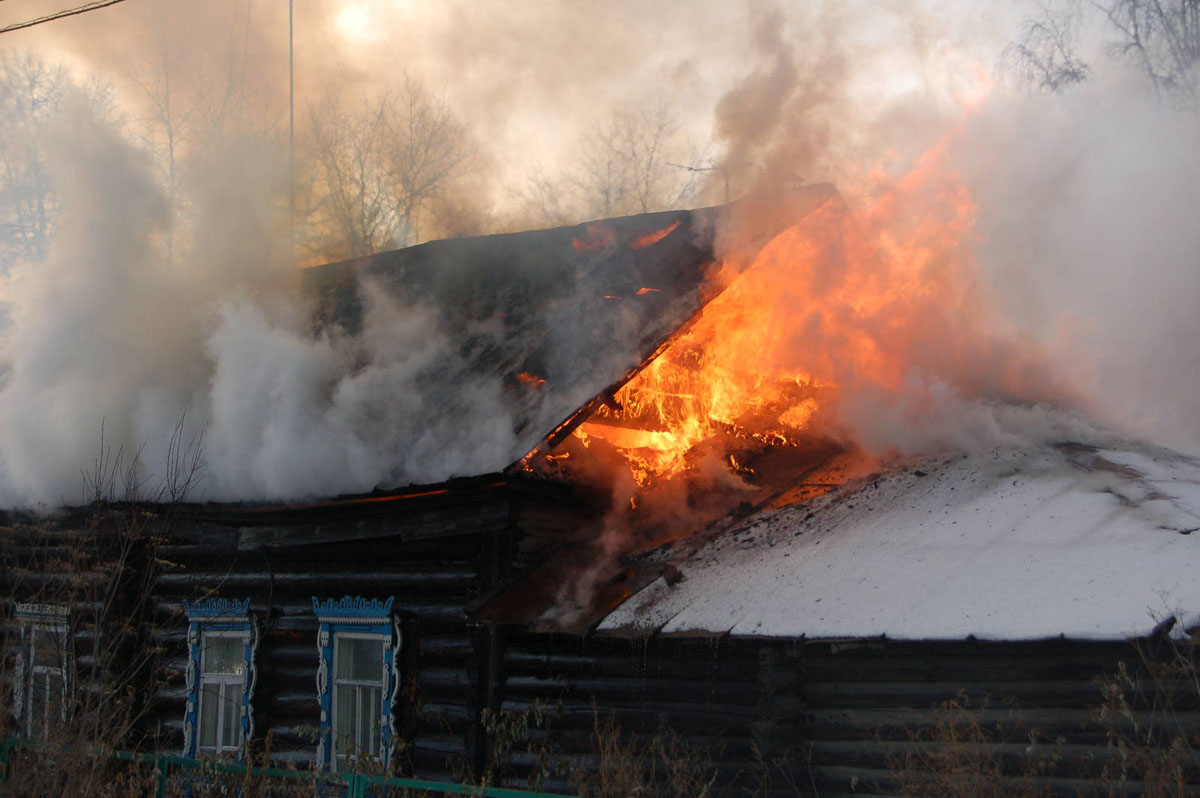fire: (604, 71, 1156, 497), (18, 38, 474, 475)
